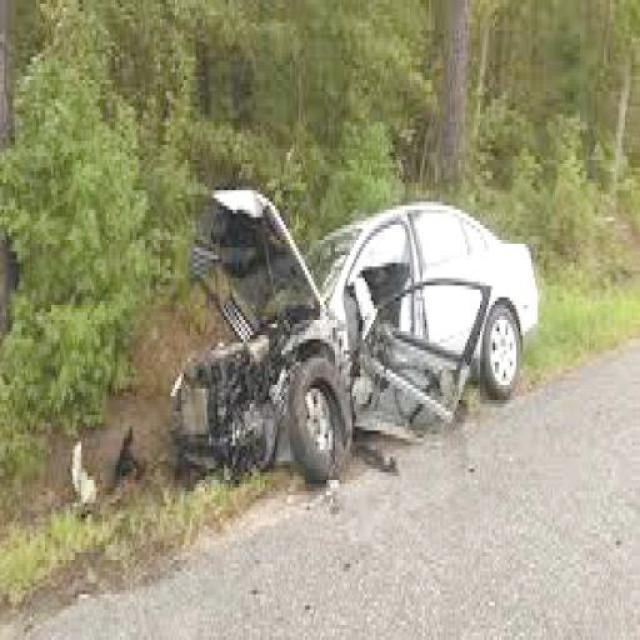car damage: (179, 190, 463, 448)
